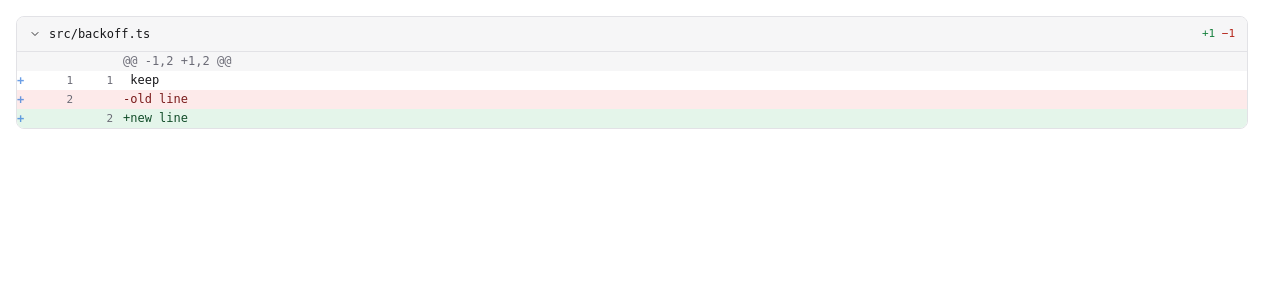
Test case: DiffView › cancels with Escape and keeps the box open when saving fails
The image size is (1265, 295).
Click the button named "Comment on line" at point(28, 80), box [17, 71, 39, 90]
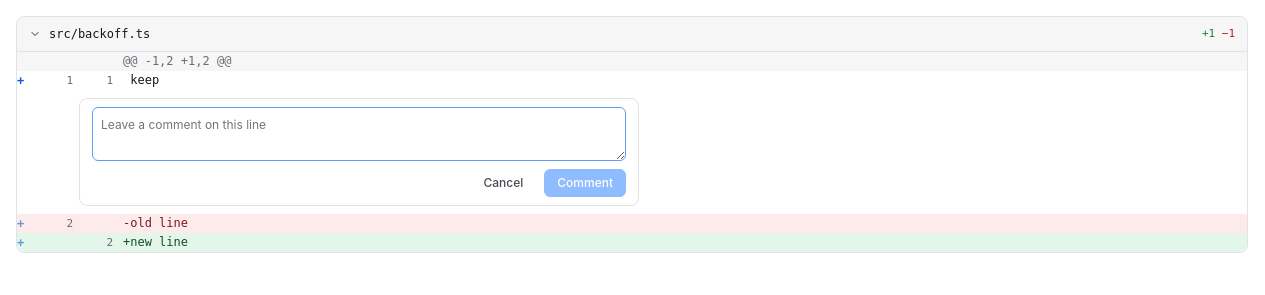
Press Escape
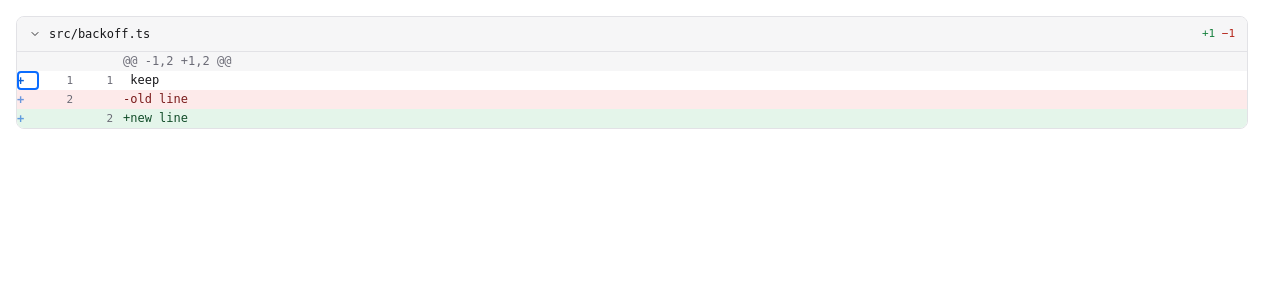
Click the button named "Comment on line" at point(28, 80), box [17, 71, 39, 90]
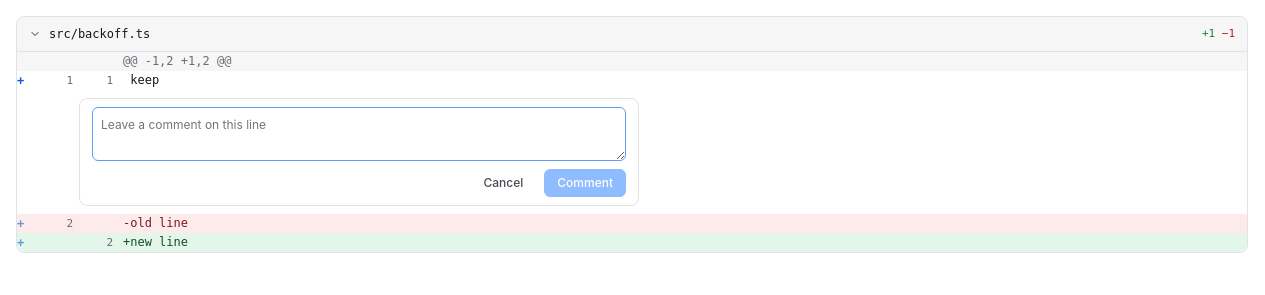
Type "x" into the text box at point(359, 134), box [92, 107, 626, 161]
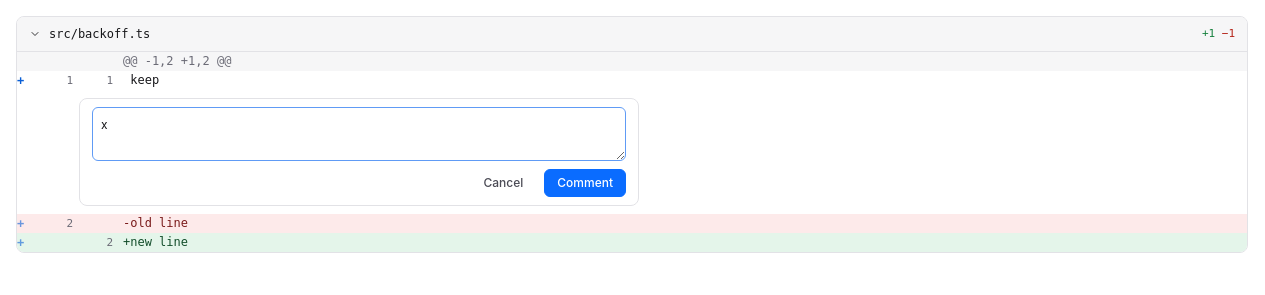
Click the button "Comment" at point(585, 183), box [544, 169, 626, 197]
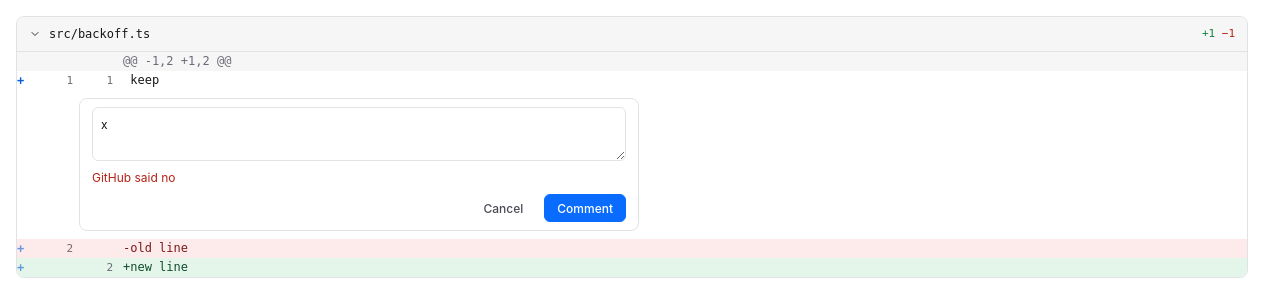
Result: the message reads "GitHub said no" at [92, 170, 176, 185]
